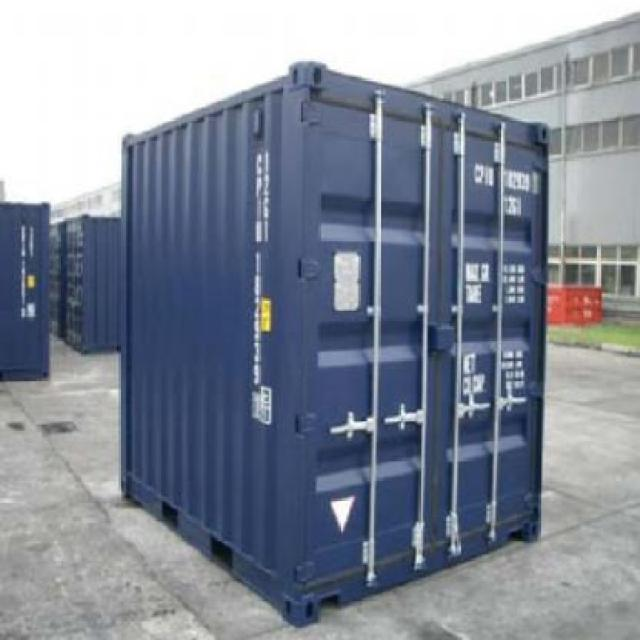ISO: (502, 196, 524, 219)
container_number: (471, 164, 542, 192)
